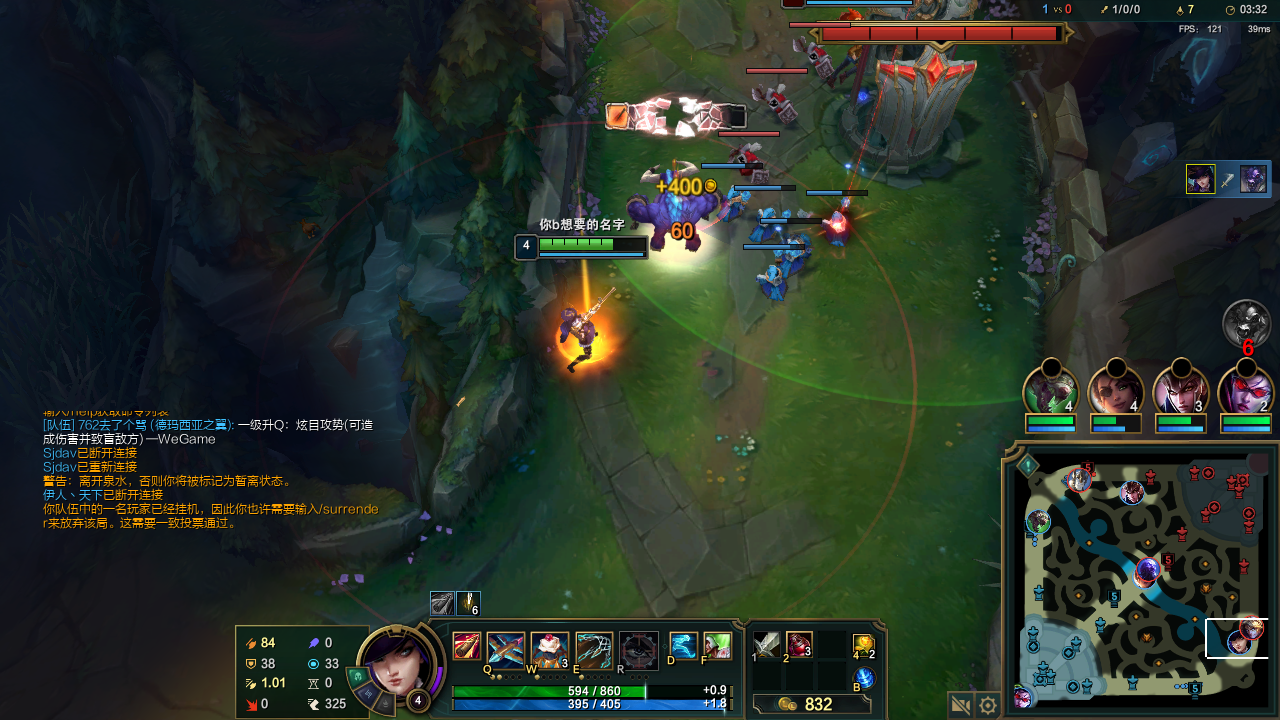DFFYT: (839, 6, 986, 170)
DFXB: (734, 143, 772, 180), (757, 85, 794, 123), (799, 40, 834, 78)
WFXB: (819, 209, 857, 252), (716, 187, 753, 218), (757, 264, 788, 297), (782, 234, 808, 271), (762, 209, 778, 239)
Yita: (1189, 674, 1203, 698)
